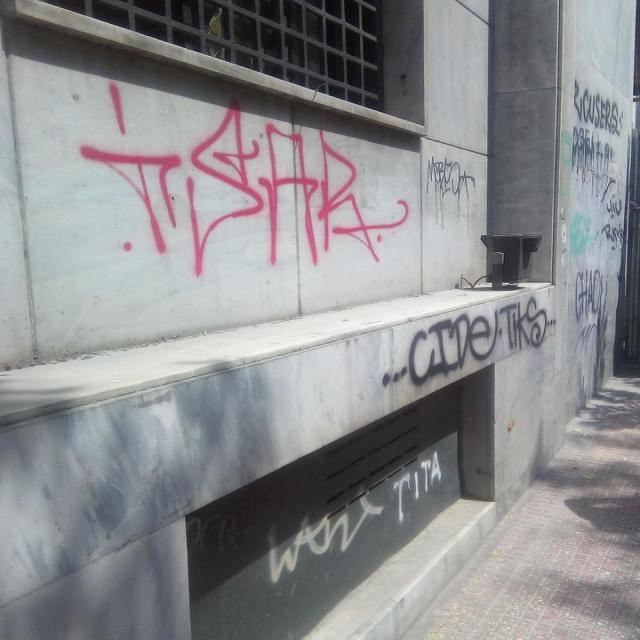nonspitting: (80, 82, 410, 276), (382, 296, 556, 386), (573, 81, 624, 135), (575, 269, 610, 337), (426, 156, 476, 197), (572, 126, 616, 159), (601, 180, 624, 240), (570, 212, 590, 254)
